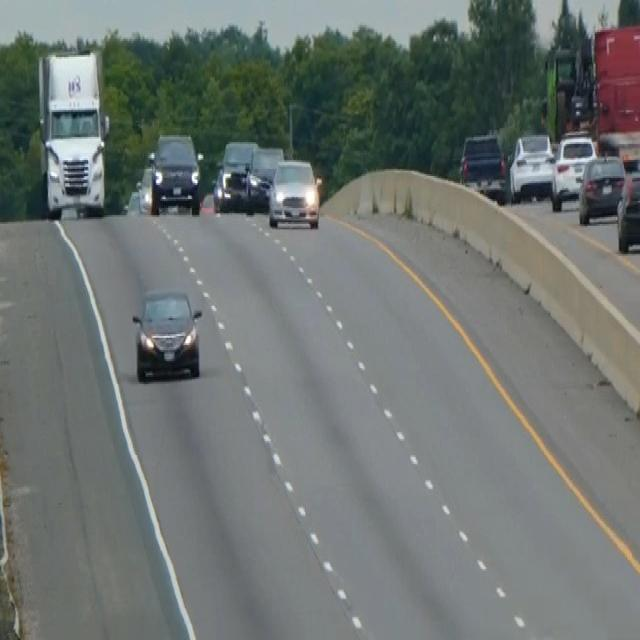car: (130, 286, 203, 382), (149, 130, 202, 215), (267, 155, 320, 229), (550, 132, 597, 210), (458, 130, 507, 202), (577, 151, 625, 224), (508, 130, 555, 201), (214, 137, 257, 211), (246, 144, 284, 210), (616, 169, 639, 252), (136, 164, 154, 214)
lorry: (35, 46, 112, 219)
